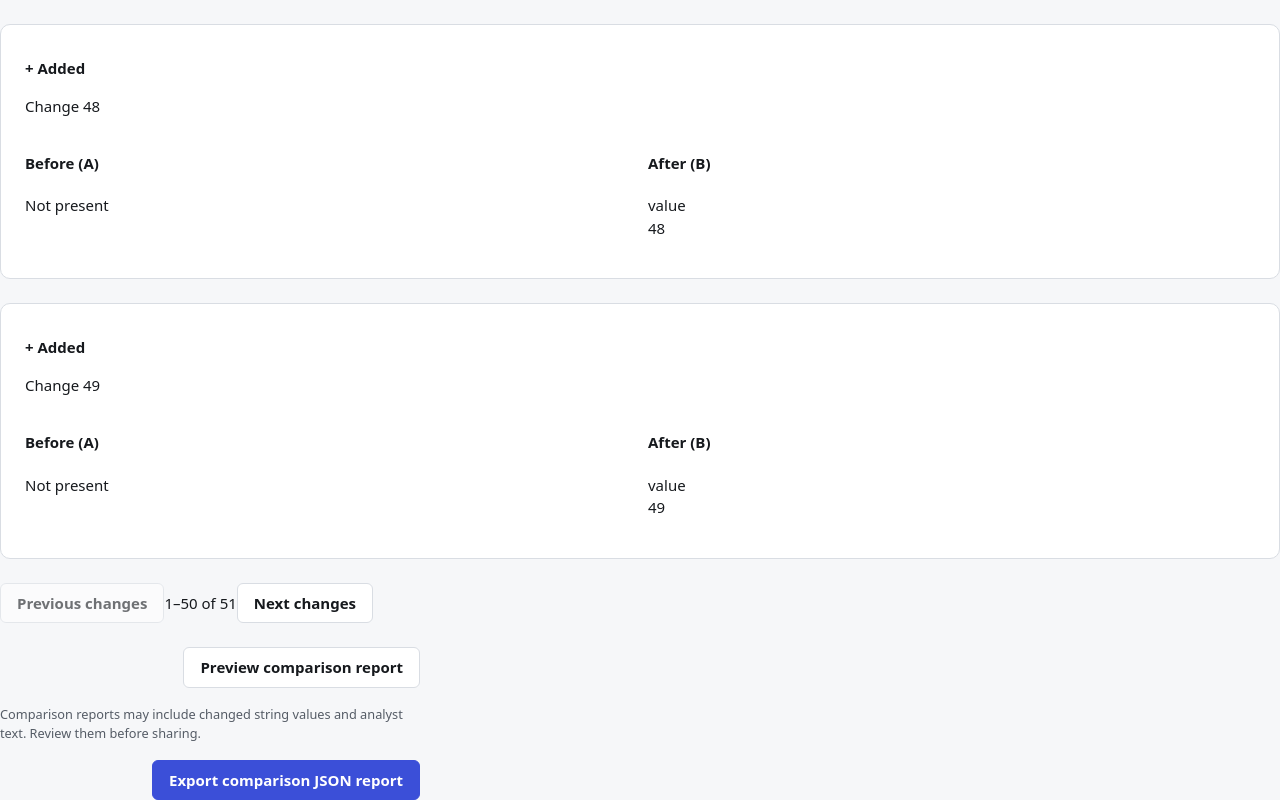
it: Version comparison › paginates bounded changes and resets the page on category selection
(page scrolled)
Expected: the text "1–50 of 51" is shown, [164,593,237,613]
Expected: the button "Previous changes" is disabled, [0,583,164,623]
Click the button "Next changes". click: click(305, 603)
box: [237,583,373,623]
(page scrolled)
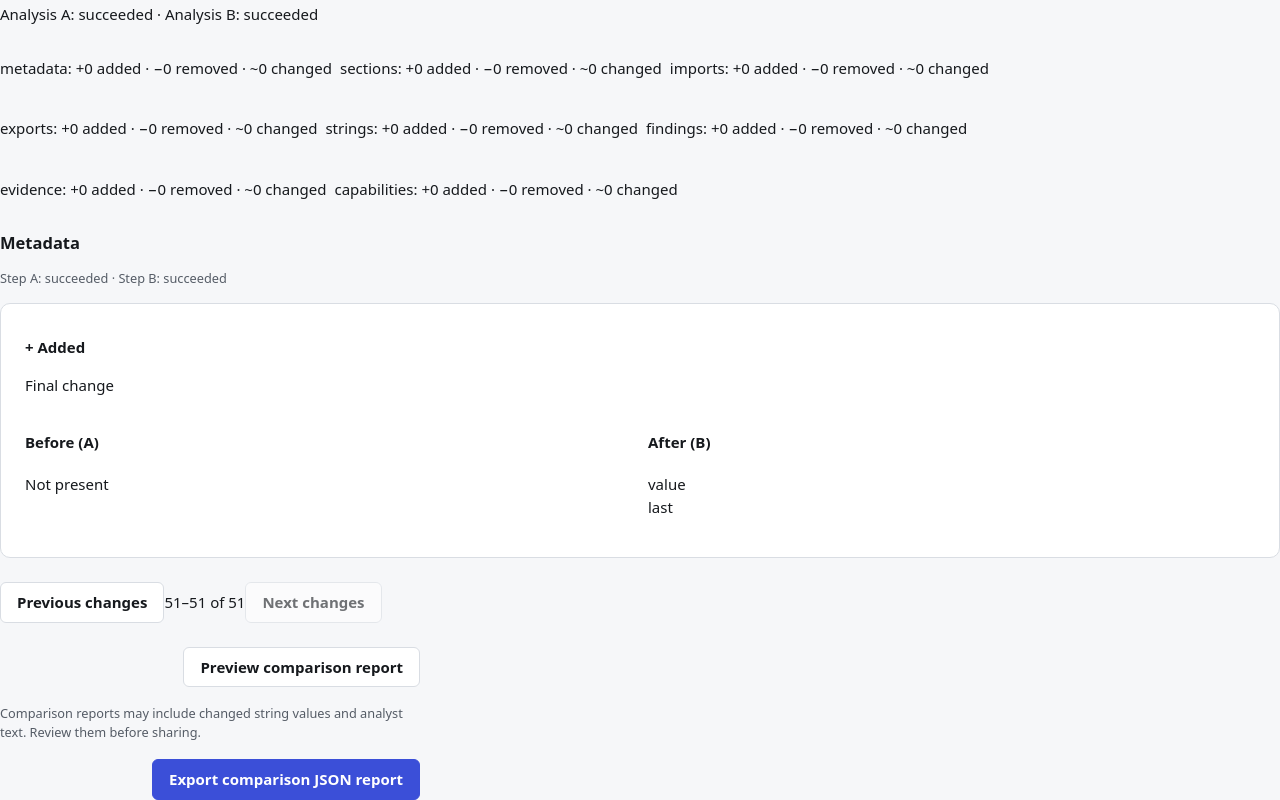
Result: the text "Final change" is shown at [25,374,114,394]
Result: the text "51–51 of 51" is shown at [164,592,245,612]
Result: the button "Next changes" is disabled at [245,582,382,623]
Click the button "Previous changes". click: click(82, 603)
box: [0,582,164,623]
(page scrolled)
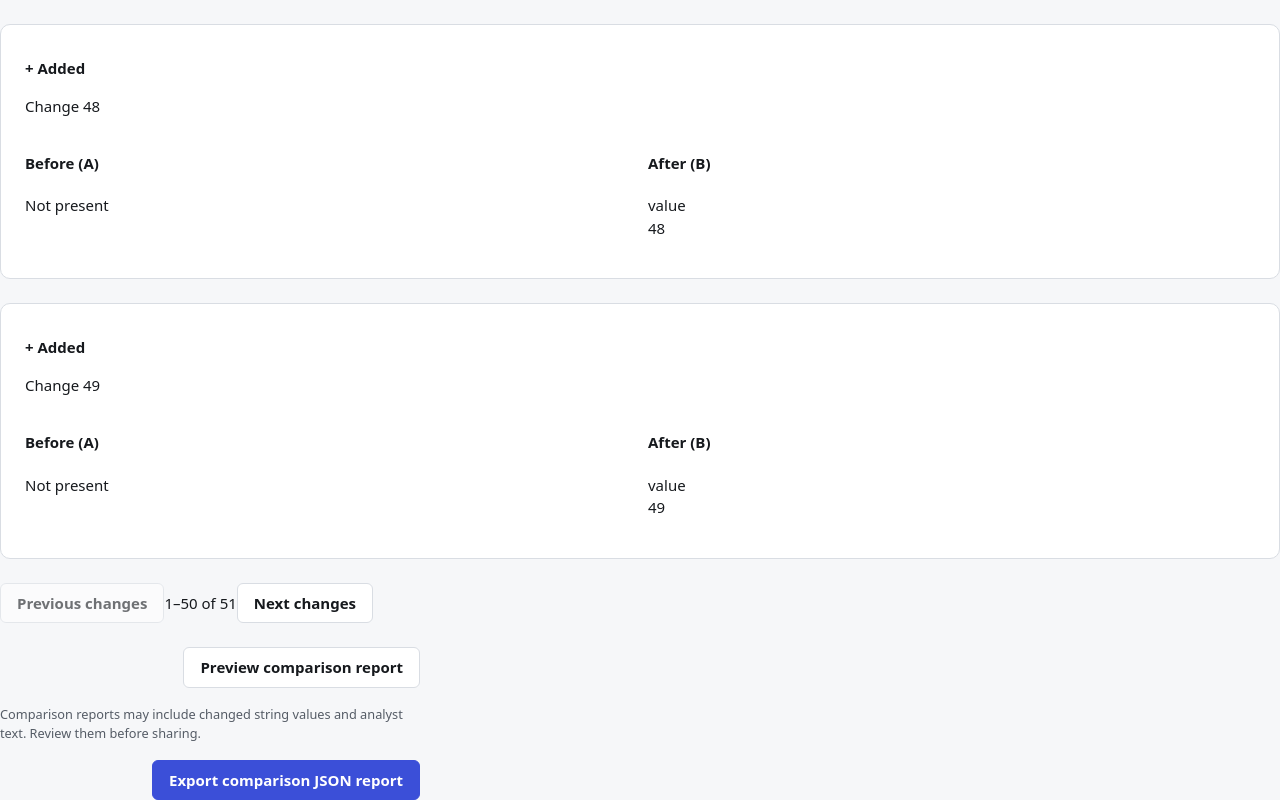
Result: the text "1–50 of 51" is shown at [164,593,237,613]
Click the button "Next changes". click: click(305, 603)
box: [237,583,373,623]
(page scrolled)
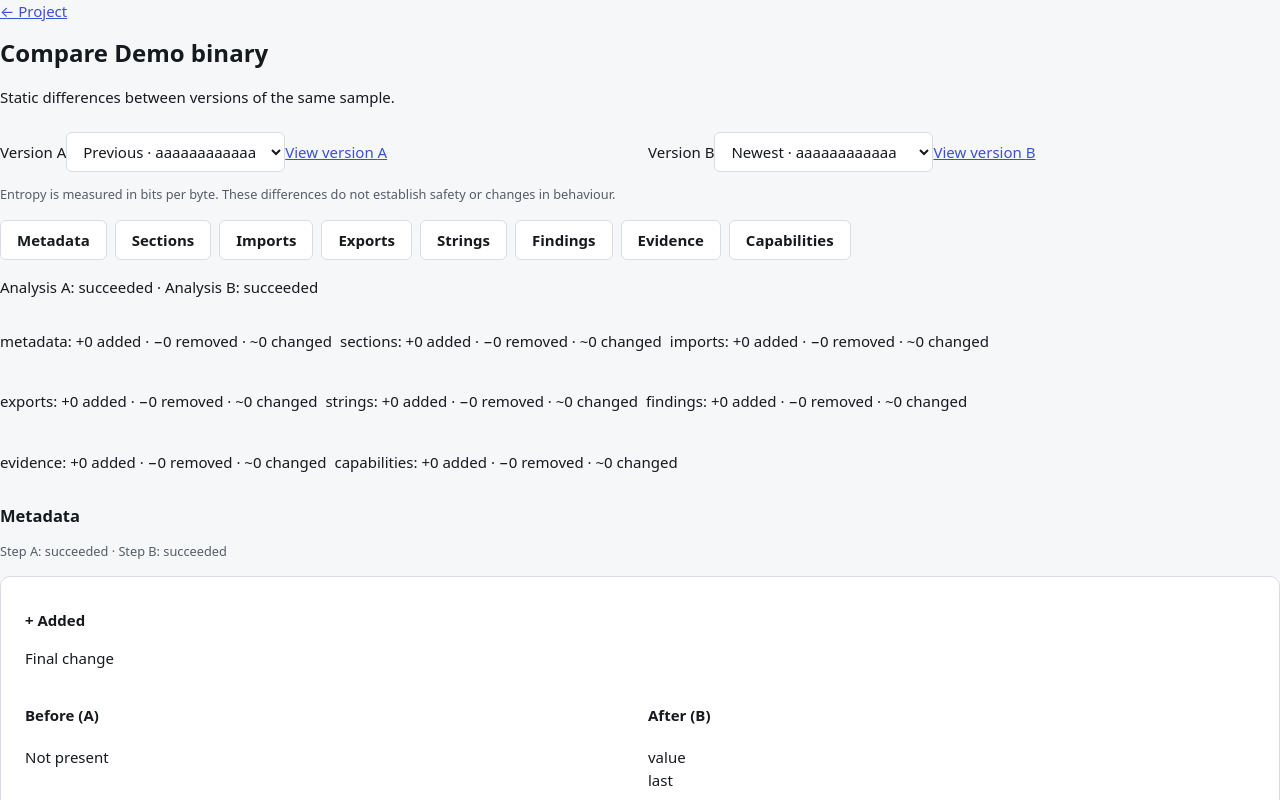
Result: the text "Final change" is shown at [25,648,114,668]
Click the button "Sections". click: click(163, 240)
box: [115,220,211,260]
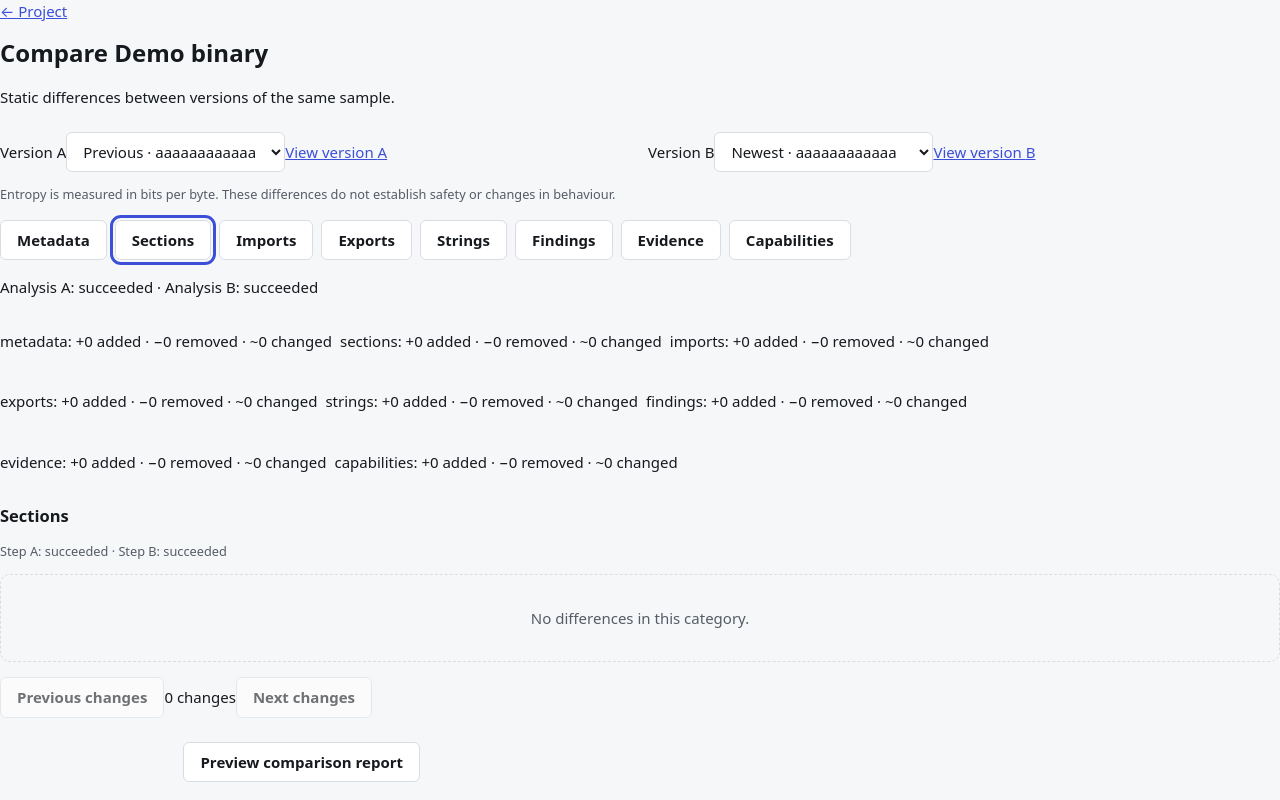
Result: the text "No differences in this category." is shown at [0,574,1279,662]
Result: the button "Previous changes" is disabled at [0,677,164,718]
